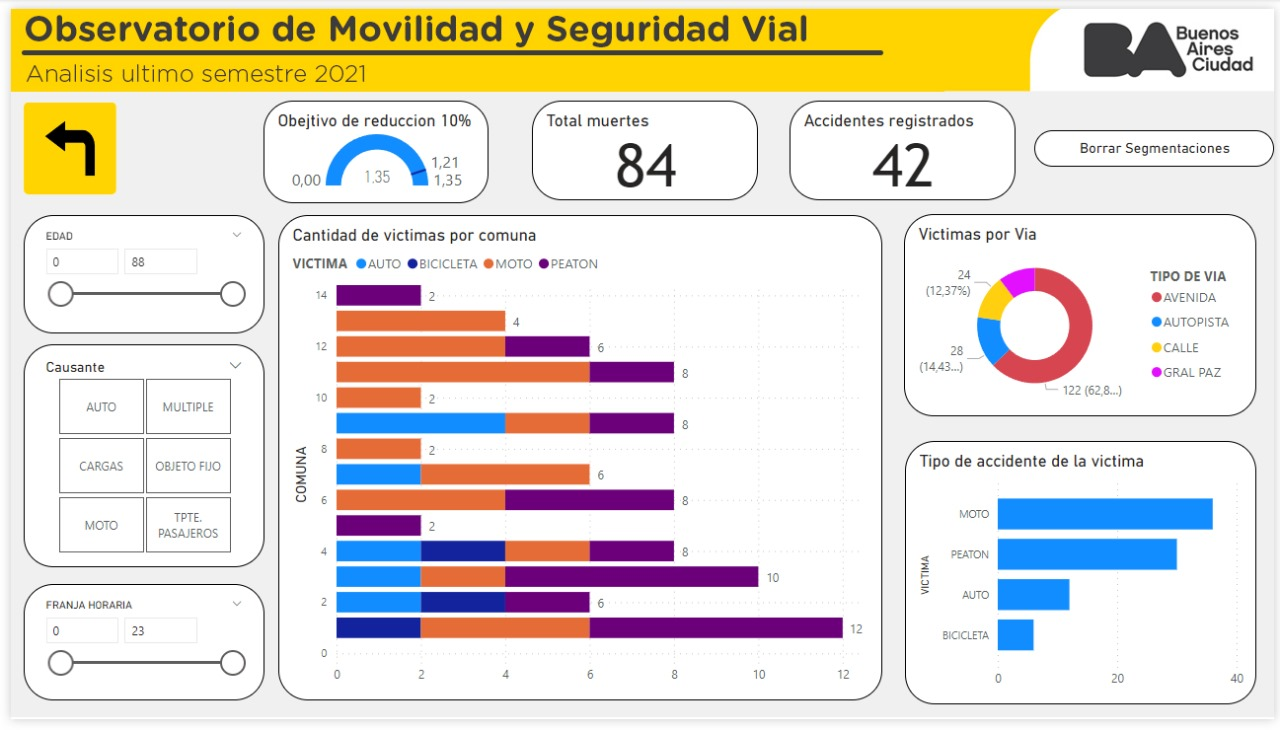

The dashboard page shown, as its layout file describes it:
{"tool":"powerbi","page":{"name":"Informe Homicidios","canvas":[1280,720],"ordinal":1},"visuals":[{"type":"image","box":[0,90,120,104.4],"z":0},{"type":"actionButton","title":"Borrar Segmentaciones","box":[1036.7,123.4,243.3,36.7],"z":1000},{"type":"card","title":"Total muertes","fields":{"Values":["Sum(HECHOS N.CANTIDAD VICTIMAS)"]},"box":[527.8,93.3,228.9,101.1],"z":2000},{"type":"card","title":"Accidentes registrados","fields":{"Values":["CountNonNull(HECHOS N.ID_hecho)"]},"box":[788.9,93.3,228.9,101.1],"z":3000},{"type":"kpi","title":"Reducción del 10% la Tasa de Víctimas del Último Semestre","fields":{"Indicator":["Medidas.TasaVictimasUltimoSemestre"],"Goal":["Medidas.ObjetivoVictimasSemestre"],"TrendLine":["HECHOS N.FECHA.Variación.Jerarquía de fechas.Año"]},"box":[271.1,93.3,228.9,101.1],"z":4000},{"type":"donutChart","title":"Victimas por Via","fields":{"Category":["HECHOS N.TIPO DE VIA"],"Y":["Sum(HECHOS N.CANTIDAD VICTIMAS)"]},"box":[905.4,207.8,356.7,205.6],"z":5000},{"type":"slicer","fields":{"Values":["HECHOS N.FRANJA HORARIA"]},"box":[13.3,581,243.3,118.9],"z":6000},{"type":"columnChart","title":"Tipo de accidente de la victima","fields":{"Y":["CountNonNull(HECHOS N.TIPO DE VIA)"],"Category":["HECHOS N.VICTIMA"],"Series":["HECHOS N.VICTIMA"]},"box":[905.4,433.3,356.7,266.7],"z":7000},{"type":"slicer","fields":{"Values":["HECHOS N.ACUSADO"]},"box":[13.3,338.9,243.3,225.6],"z":8000},{"type":"barChart","fields":{"Category":["HECHOS N.COMUNA","HECHOS N.TIPO DE VIA"],"Y":["Sum(HECHOS N.CANTIDAD VICTIMAS)"],"Series":["HECHOS N.VICTIMA"]},"box":[271.1,207.8,608.9,492.2],"z":9000},{"type":"slicer","fields":{"Values":["VICTIMAS N.EDAD"]},"box":[13.3,205.6,243.3,118.9],"z":10000}]}

Visuals, with their boxes in screenshot pixels (x1, y1, x2, y2), scaled from the page's 1280x720 canvas onto the 1280x730 screenshot:
image: box=[0, 91, 120, 197]
"Borrar Segmentaciones" actionButton: box=[1037, 125, 1279, 162]
"Total muertes" card: box=[528, 95, 757, 197]
"Accidentes registrados" card: box=[789, 95, 1018, 197]
"Reducción del 10% la Tasa de Víctimas del Último Semestre" kpi: box=[271, 95, 500, 197]
"Victimas por Via" donutChart: box=[905, 211, 1262, 419]
slicer - HECHOS N.FRANJA HORARIA: box=[13, 589, 257, 710]
"Tipo de accidente de la victima" columnChart: box=[905, 439, 1262, 710]
slicer - HECHOS N.ACUSADO: box=[13, 344, 257, 572]
barChart - HECHOS N.COMUNA x HECHOS N.TIPO DE VIA: box=[271, 211, 880, 710]
slicer - VICTIMAS N.EDAD: box=[13, 208, 257, 329]
